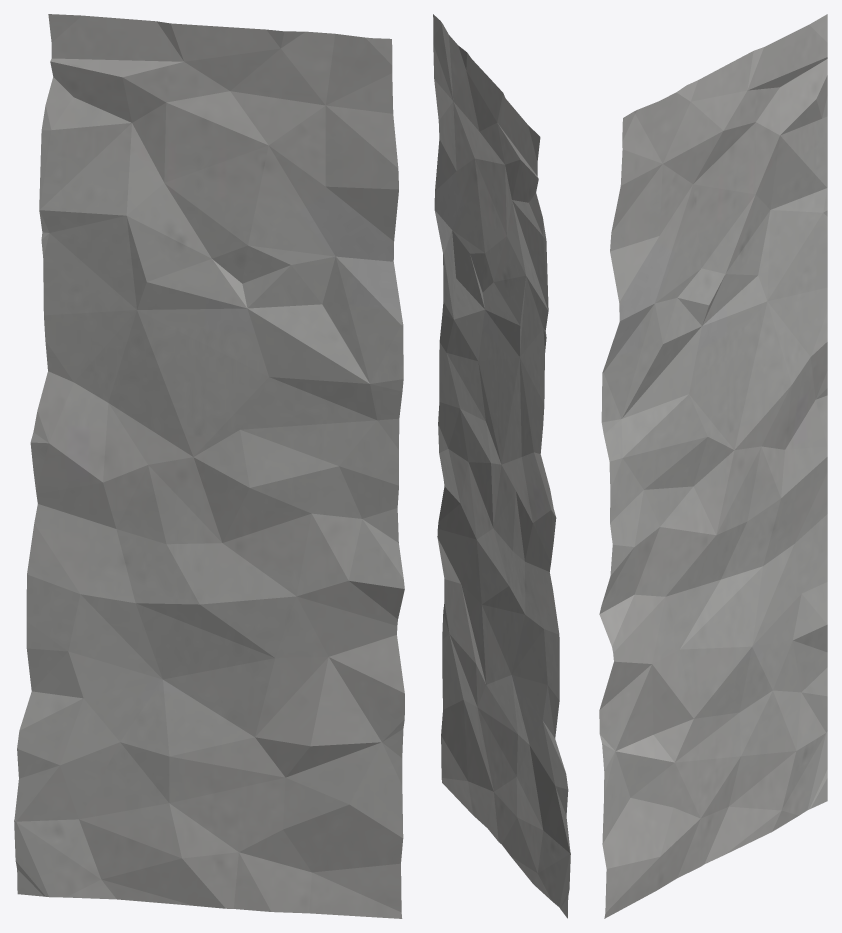
3 views of the same model, side by side, from view 1: azimuth 30°, elevation 25°; view 2: azimuth 150°, elevation 25°; view 3: azimuth 270°, elevation 25° (orthographic). The views are drawn at different scales.
Size of the model in its own units: 0.2676 by 0.8374 by 0.2161.
1 material, 1 textured.
